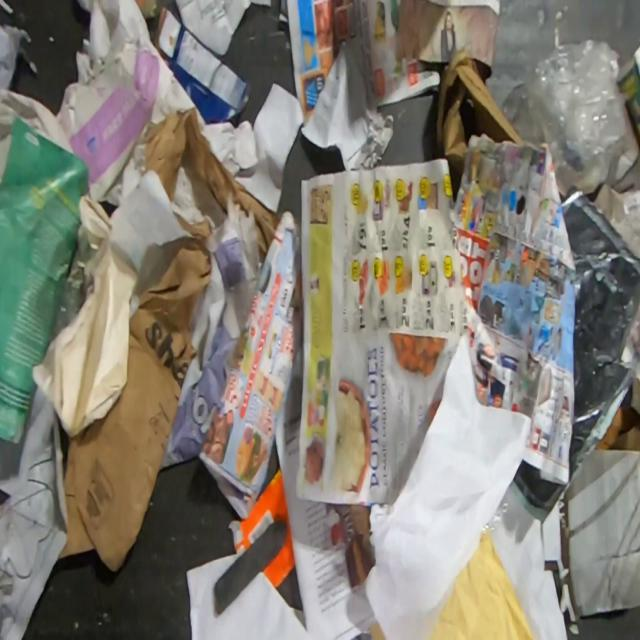cardboard: (434, 47, 530, 179), (153, 7, 251, 126), (594, 380, 640, 462)
rigid_plastic: (46, 267, 96, 344), (78, 0, 169, 21), (481, 487, 511, 532)
soft_plastic: (532, 36, 640, 190)
